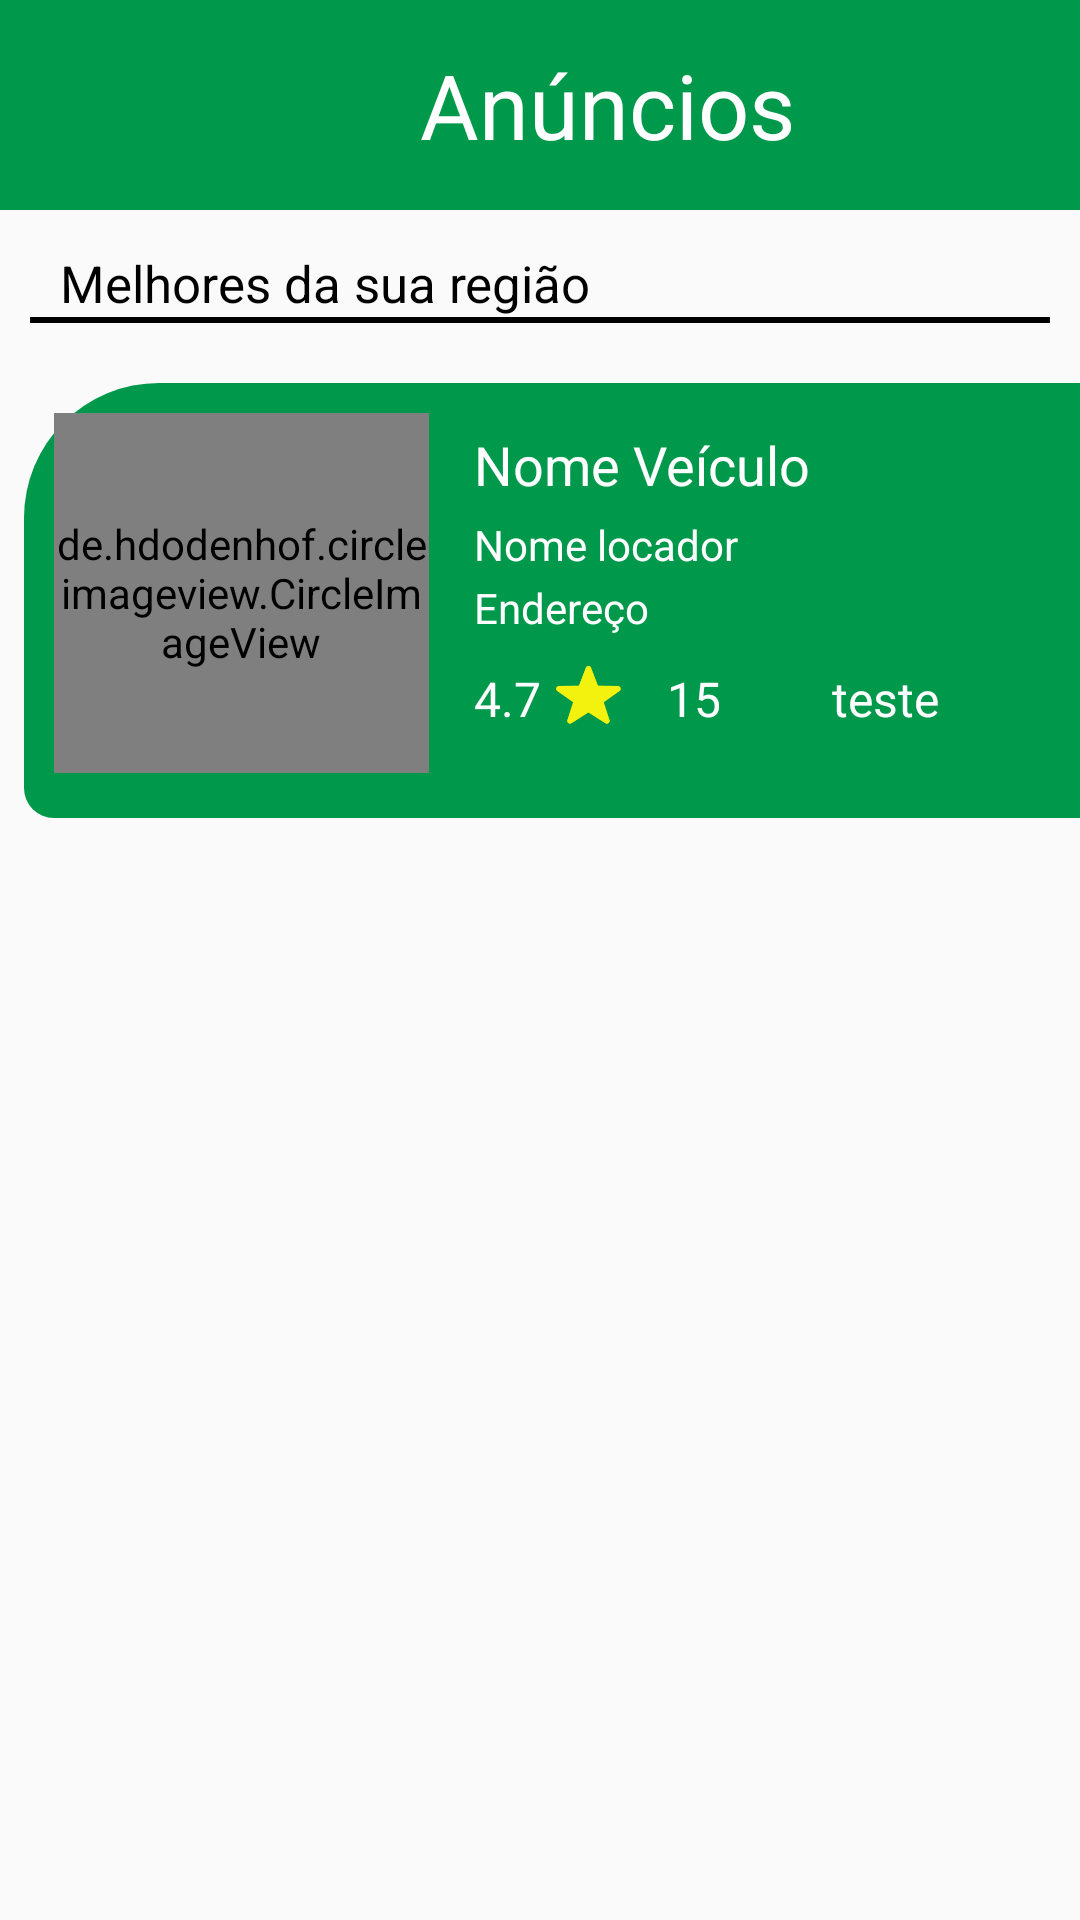

Screen size 1080px×1920px. Icon name, then its center in pixels as (x=x, y=y):
star: (x=588, y=695)
